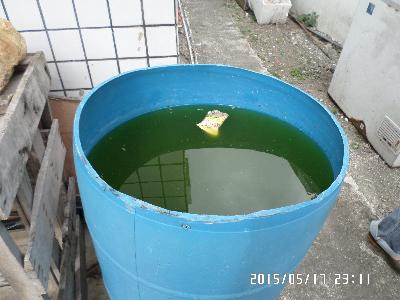bucket: (69, 63, 353, 299)
